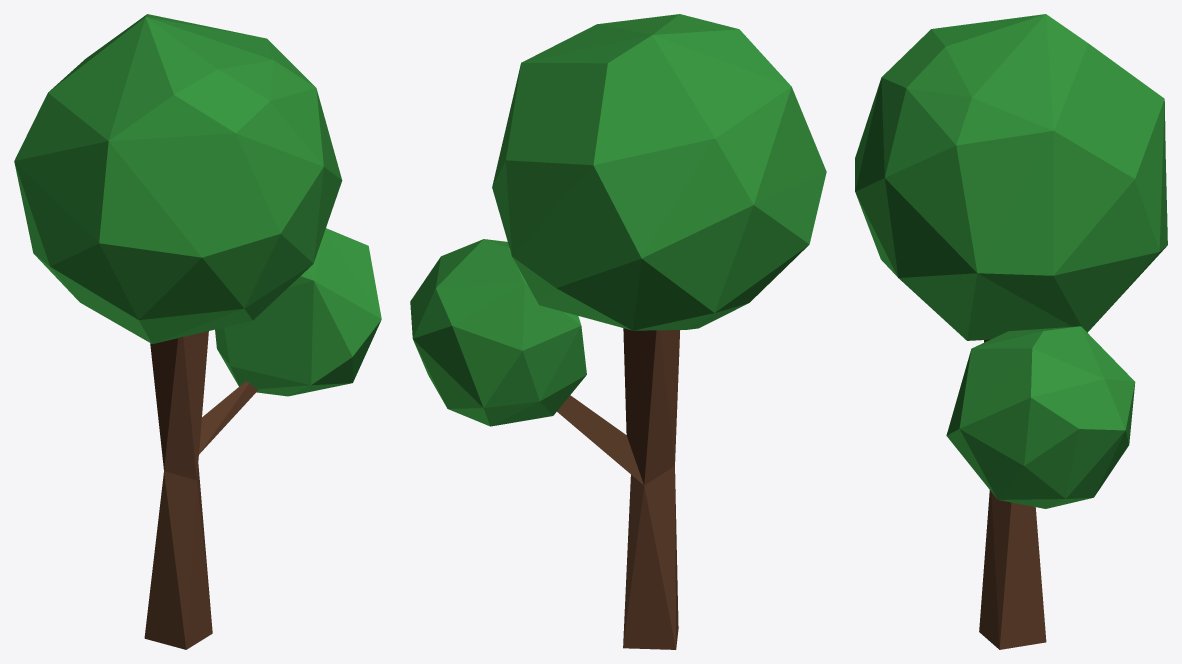
Rendered from Tree_54_Green.fbx.
3 renders of one model, left to right at view 1: azimuth 30°, elevation 25°; view 2: azimuth 150°, elevation 25°; view 3: azimuth 270°, elevation 25°, orthographic.
Visible parts, largest first — view 1: Tree_54_Green_Part_1, Tree_54_Green_Part_2, Tree_54_Green_Part_3; view 2: Tree_54_Green_Part_1, Tree_54_Green_Part_2, Tree_54_Green_Part_3; view 3: Tree_54_Green_Part_1, Tree_54_Green_Part_2, Tree_54_Green_Part_3.
Boxes of the visible parts, <box> form: Tree_54_Green_Part_1: <box>14,14,342,343</box>; Tree_54_Green_Part_2: <box>199,228,381,454</box>; Tree_54_Green_Part_3: <box>144,331,212,649</box>; Tree_54_Green_Part_1: <box>492,14,826,330</box>; Tree_54_Green_Part_2: <box>410,239,643,484</box>; Tree_54_Green_Part_3: <box>623,328,680,649</box>; Tree_54_Green_Part_1: <box>855,14,1167,340</box>; Tree_54_Green_Part_2: <box>946,326,1135,508</box>; Tree_54_Green_Part_3: <box>979,339,1046,649</box>.
Size of the model in its own units: 358 by 602 by 278.
